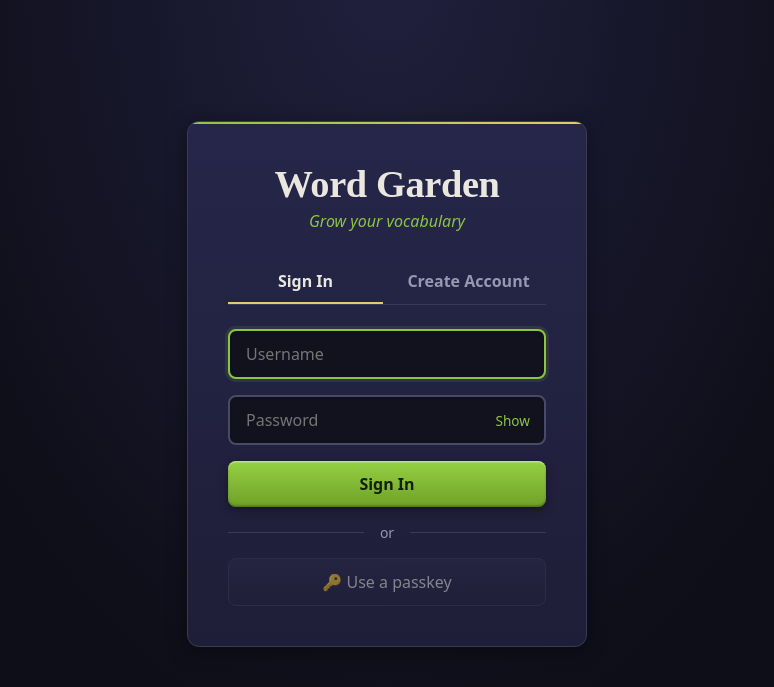
Test case: Login tabs › switches to the Create Account form when its tab is clicked
Click the tab "Create Account".
click(468, 282)  # box [391, 260, 546, 304]
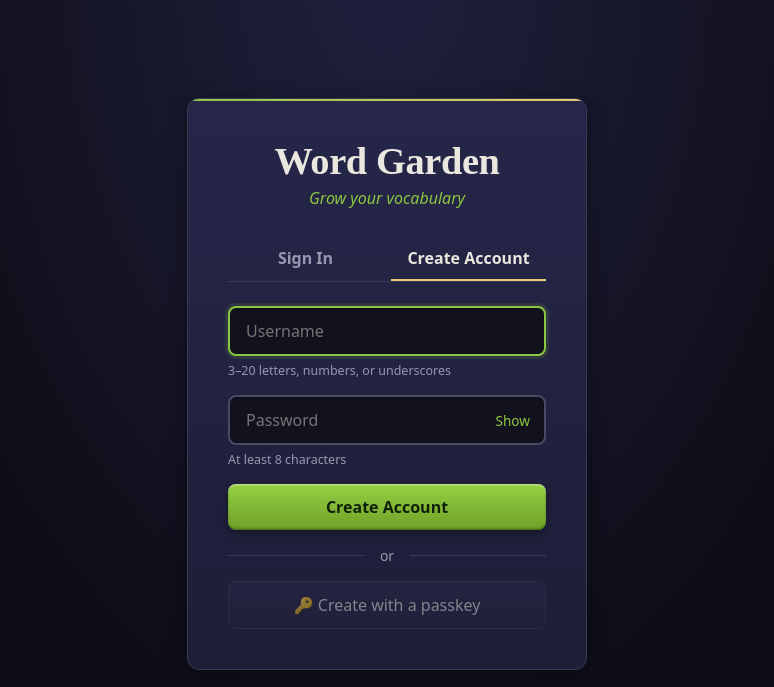
Expected: the button "Create Account" is shown, [228, 484, 546, 530]
